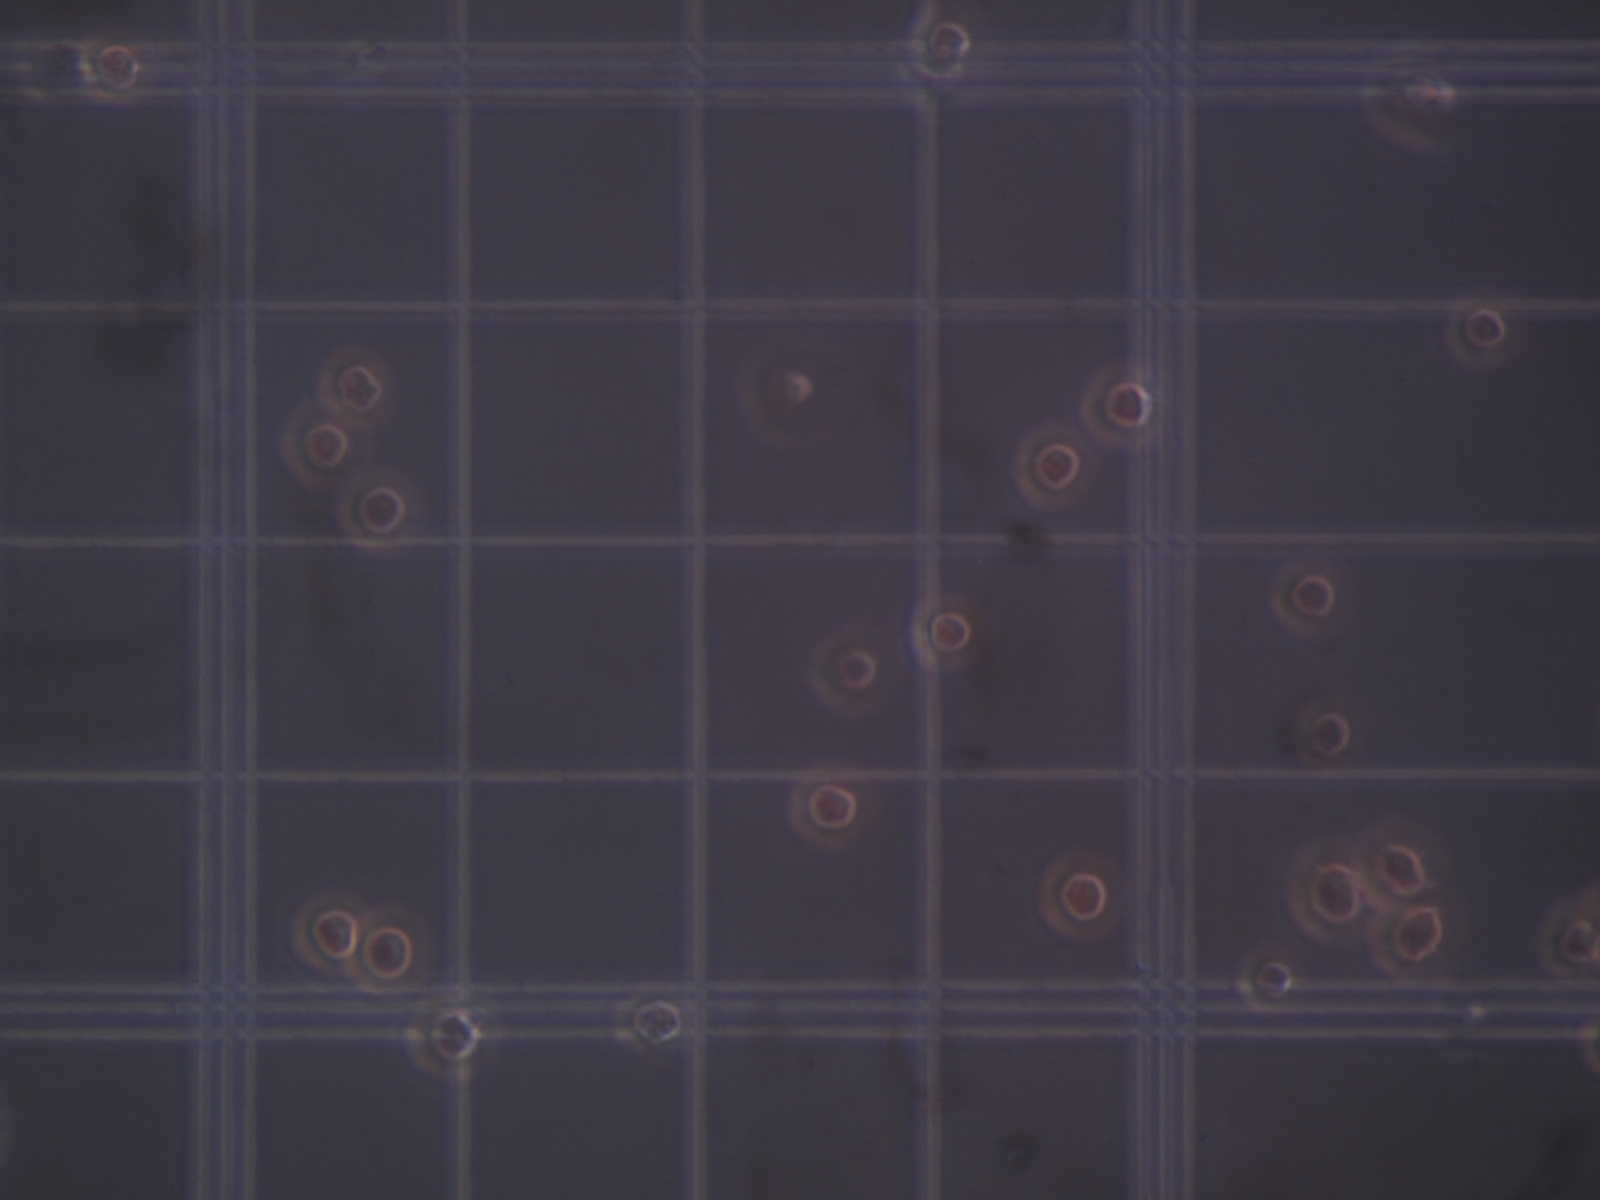hemo: (1288, 836, 1371, 944), (1357, 816, 1449, 913), (808, 623, 894, 716), (737, 344, 815, 447), (349, 903, 432, 996), (1369, 904, 1465, 984), (1080, 362, 1164, 451), (1010, 424, 1095, 512), (1039, 850, 1121, 940), (787, 763, 872, 850), (404, 997, 490, 1082), (336, 469, 418, 553), (291, 889, 368, 972), (317, 345, 393, 429), (1269, 561, 1347, 638), (280, 406, 354, 487), (911, 592, 981, 671), (1536, 900, 1600, 982), (1291, 700, 1359, 775), (78, 37, 151, 106), (1445, 301, 1516, 369), (614, 992, 683, 1059), (910, 9, 973, 79), (1235, 945, 1298, 1013)
